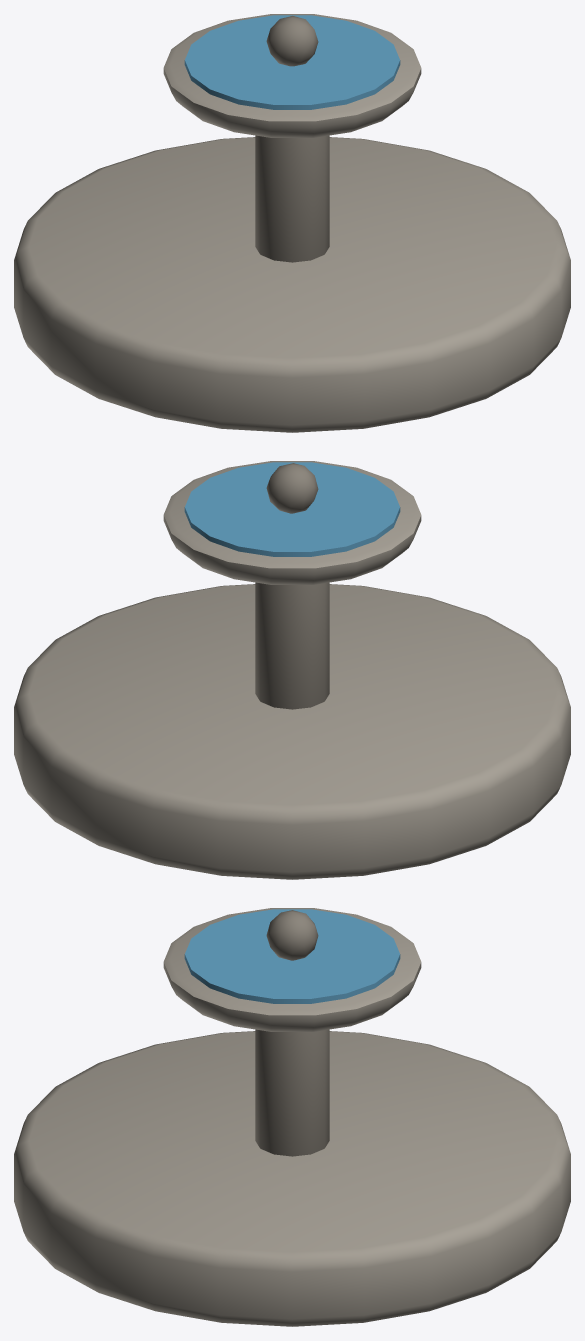
The model's file is fountain.fbx.
The picture shows the model from 3 angles, top to bottom: view 1: azimuth 30°, elevation 25°; view 2: azimuth 150°, elevation 25°; view 3: azimuth 270°, elevation 25°; orthographic projection.
Parts seen in each view (by area): view 1: fountain; view 2: fountain; view 3: fountain.
Boxes of the visible parts, bbox=[...] form: fountain: bbox=[14, 14, 570, 432]; fountain: bbox=[14, 461, 570, 879]; fountain: bbox=[14, 908, 570, 1326].
Size of the model in its own units: 1.5 by 0.9 by 1.5.
